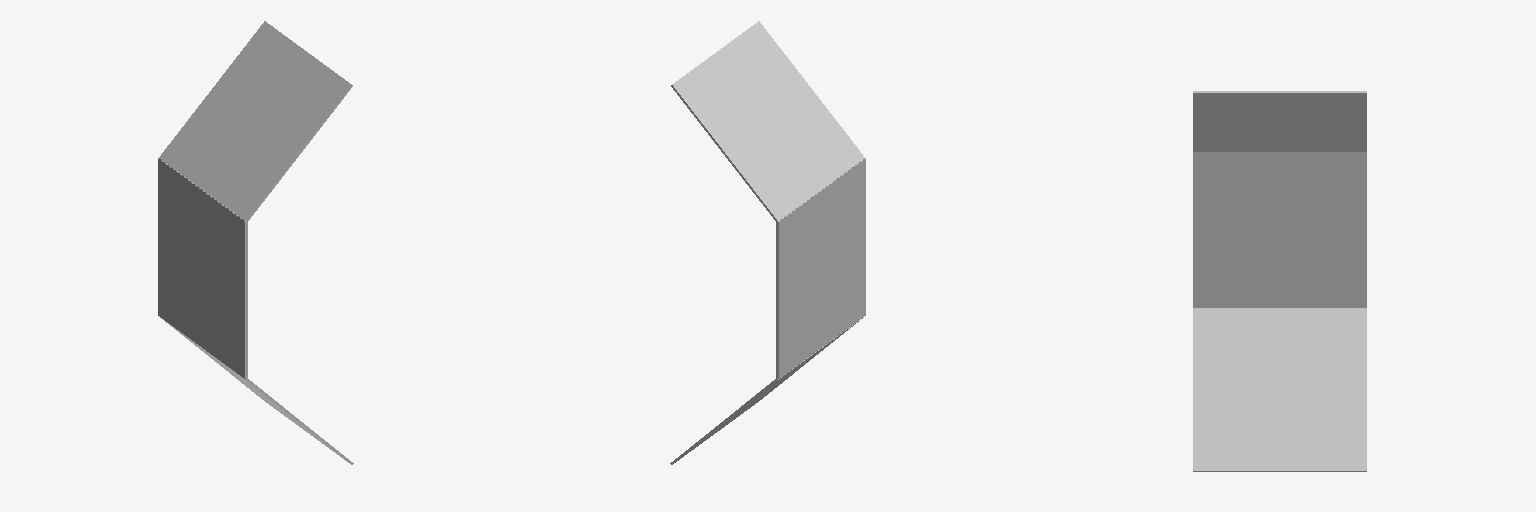
File: AR_TAG.obj
3 views of the same model, side by side, from view 1: azimuth 30°, elevation 25°; view 2: azimuth 150°, elevation 25°; view 3: azimuth 270°, elevation 25° (orthographic).
Visible parts, largest first — view 1: Cube.001_Cube.003, Cube, Cube.002_Cube.004; view 2: Cube.001_Cube.003, Cube, Cube.002_Cube.004; view 3: Cube.002_Cube.004, Cube, Cube.001_Cube.003.
Boxes of the visible parts, <box> form: Cube.001_Cube.003: <box>158,21,352,221</box>; Cube: <box>158,158,247,378</box>; Cube.002_Cube.004: <box>159,316,353,464</box>; Cube.001_Cube.003: <box>671,21,865,222</box>; Cube: <box>776,158,865,378</box>; Cube.002_Cube.004: <box>670,316,864,464</box>; Cube.002_Cube.004: <box>1193,308,1366,471</box>; Cube: <box>1193,152,1366,307</box>; Cube.001_Cube.003: <box>1193,91,1366,151</box>.
Size of the model in its own units: 0.0292 by 0.0981 by 0.0406.